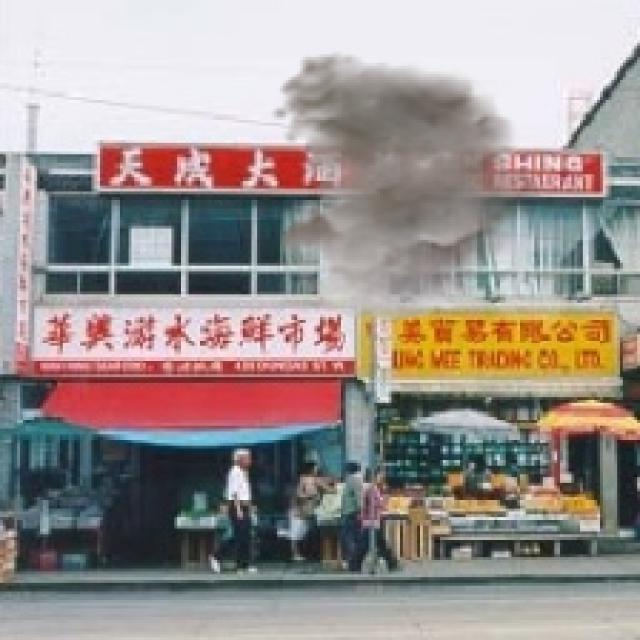Smoke: (272, 51, 552, 323)
